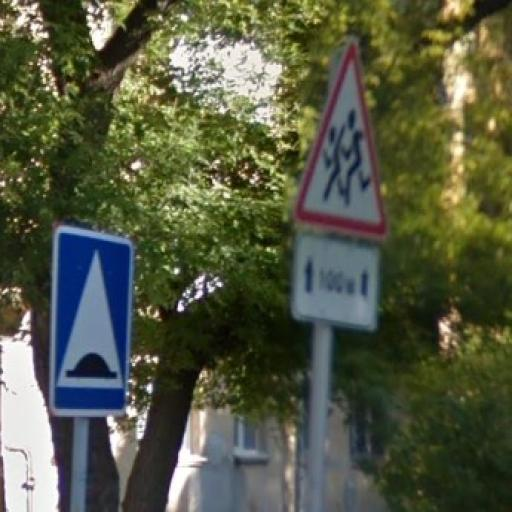traffic_sign: (295, 41, 388, 239), (50, 226, 136, 420)
